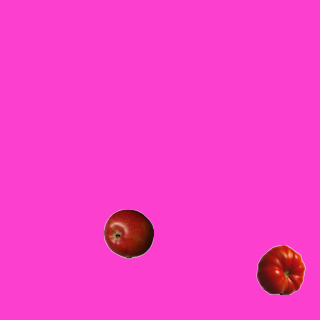Apple Braeburn: (103, 208, 153, 258)
Tomato 3: (255, 244, 305, 294)
